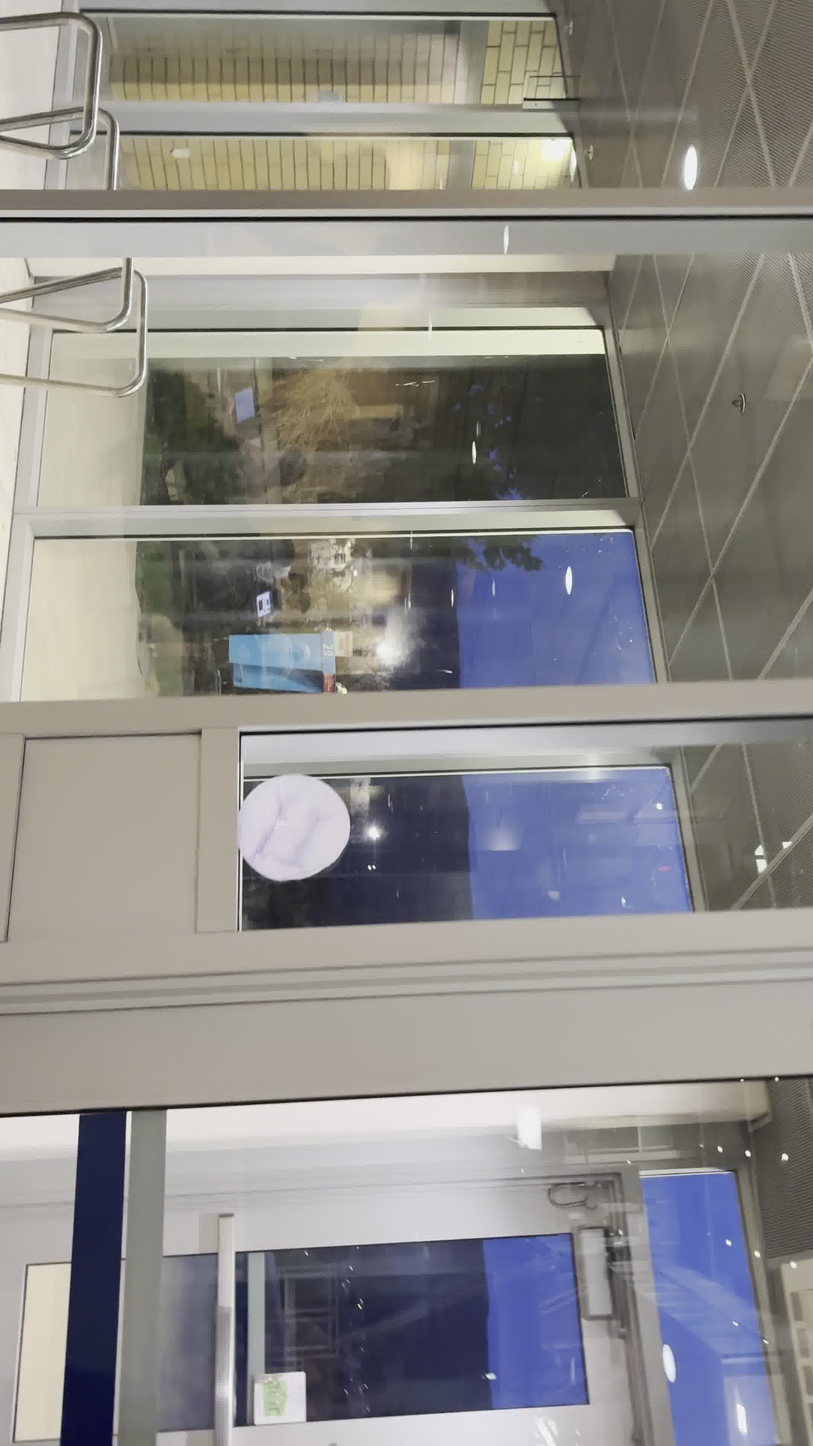Target: (236, 771, 352, 882)
